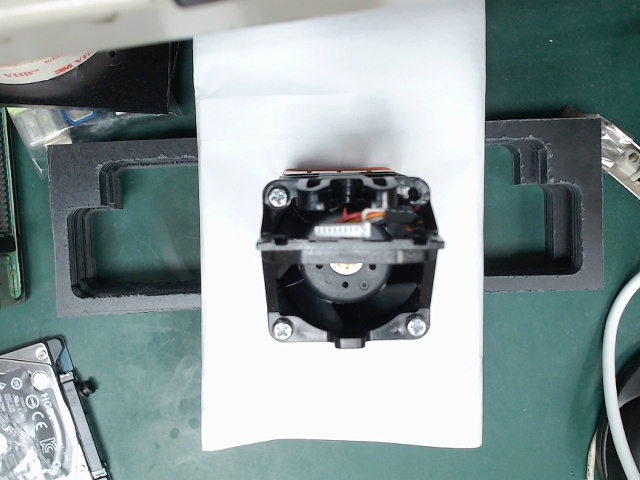Phase1_panel_missing: (252, 226, 457, 265)
